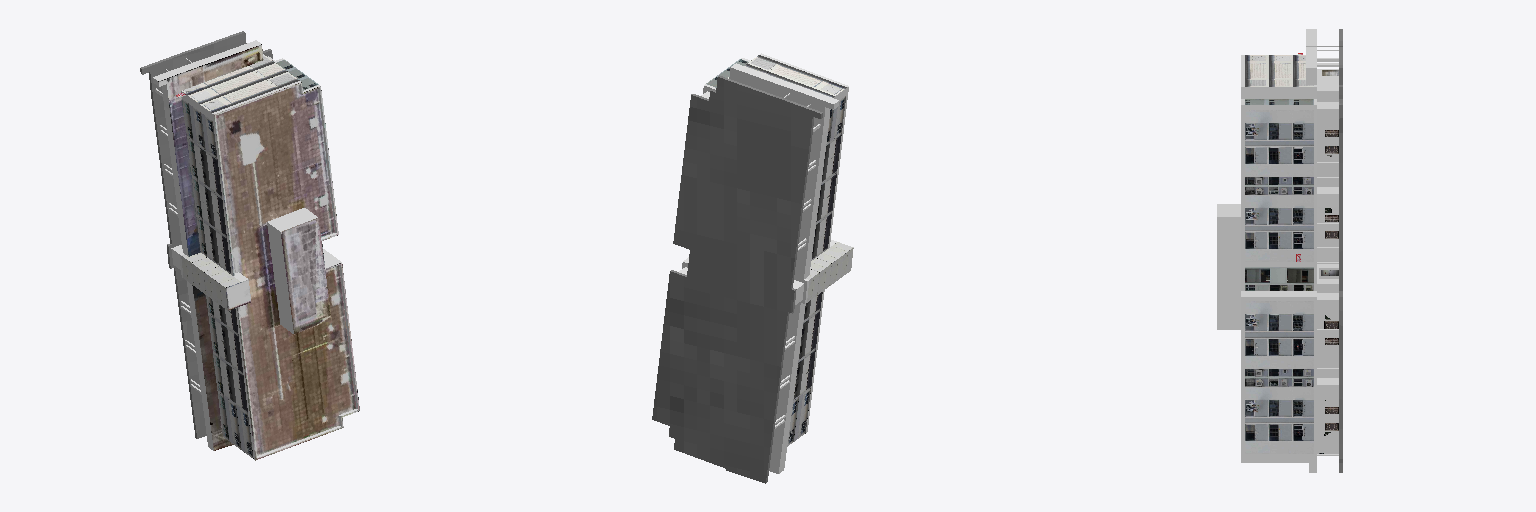
3 views of the same model, side by side, from view 1: azimuth 30°, elevation 25°; view 2: azimuth 150°, elevation 25°; view 3: azimuth 270°, elevation 25° (orthographic).
Visible parts, largest first — view 1: polygon.853; view 2: polygon.853; view 3: polygon.853.
Boxes of the visible parts, x1,y1,x2,y2 form: polygon.853: [140, 31, 359, 460]; polygon.853: [652, 53, 853, 483]; polygon.853: [1217, 29, 1342, 472].
Bounding box in the file's own units: 26.17 × 58.43 × 16.82.
Materials: 1 (1 with a texture image).